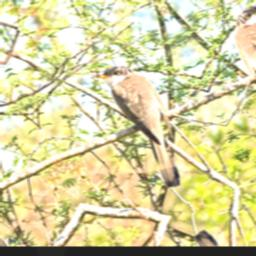Cuckoo: (90, 55, 203, 196)
